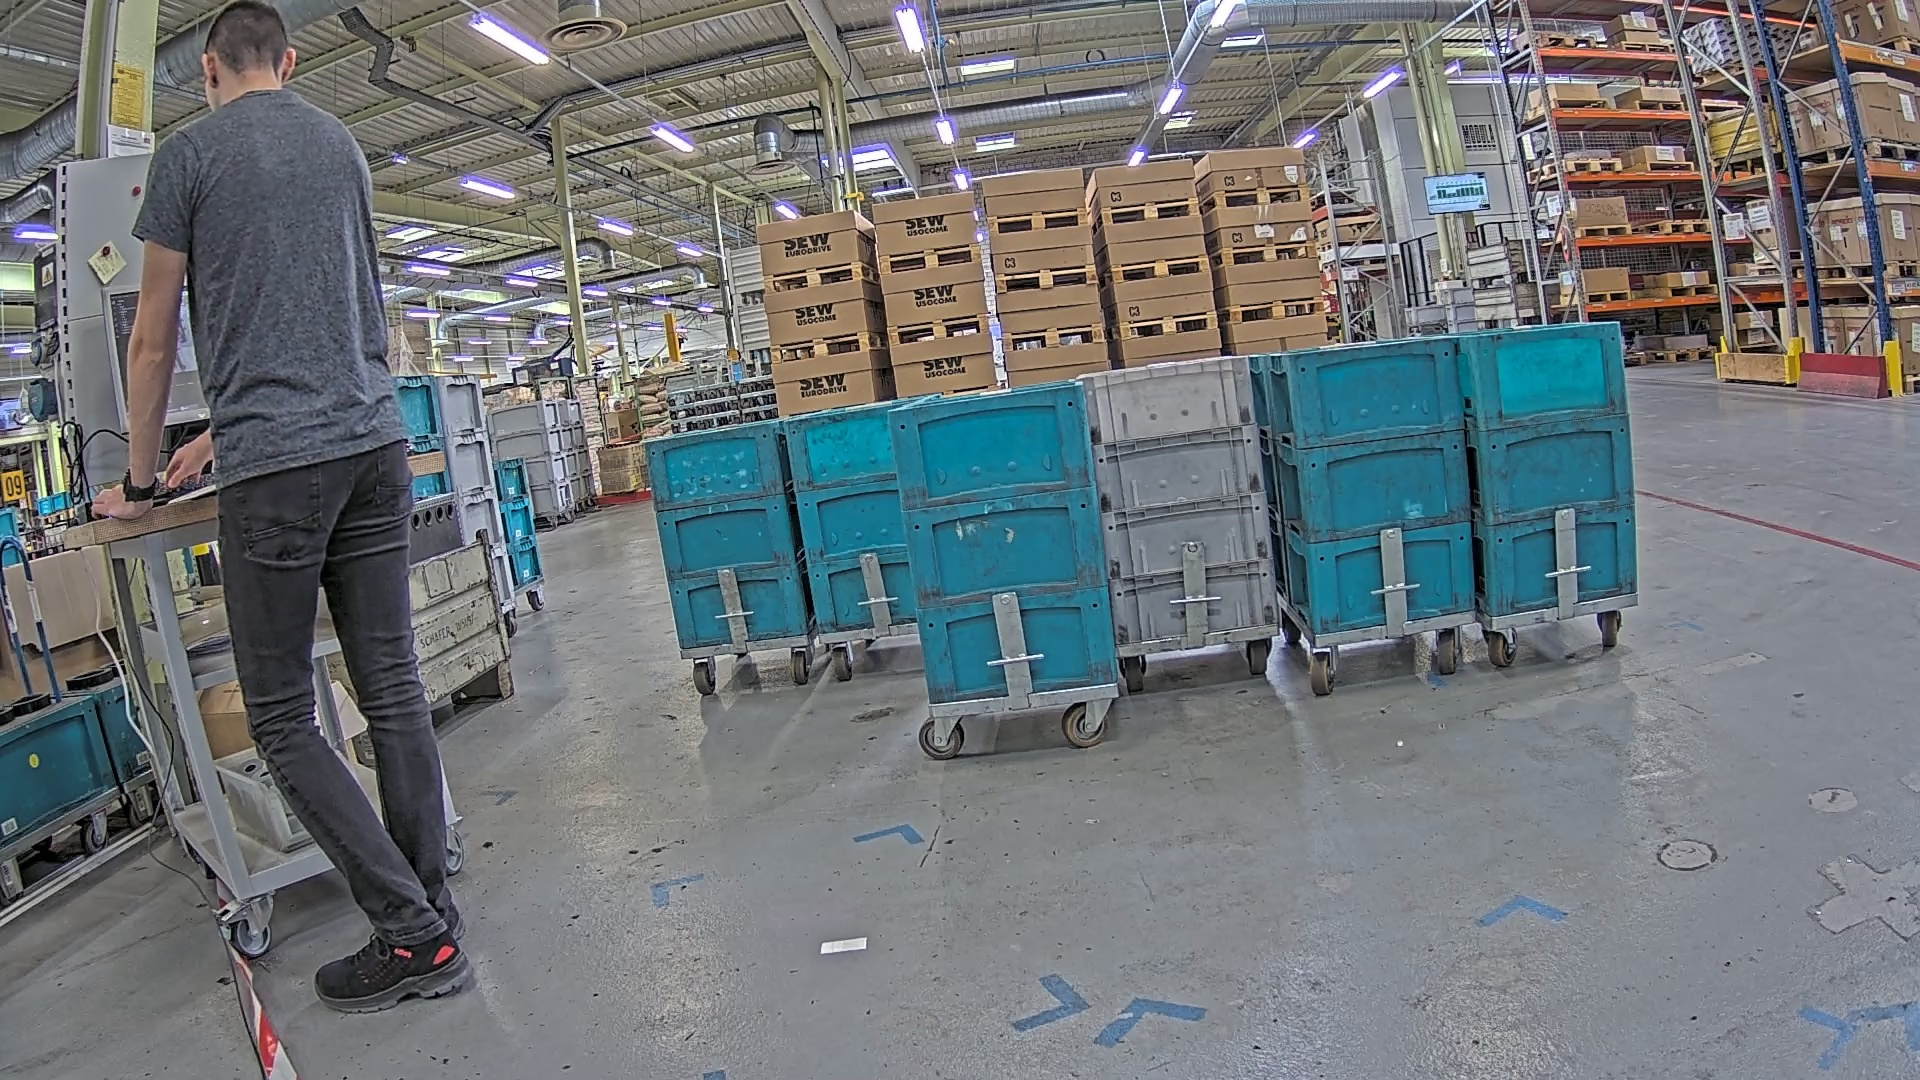8G: (1075, 355, 1282, 649)
B8: (882, 382, 1121, 707), (1283, 335, 1477, 634), (1468, 320, 1643, 618), (640, 419, 811, 650), (783, 402, 922, 634)
